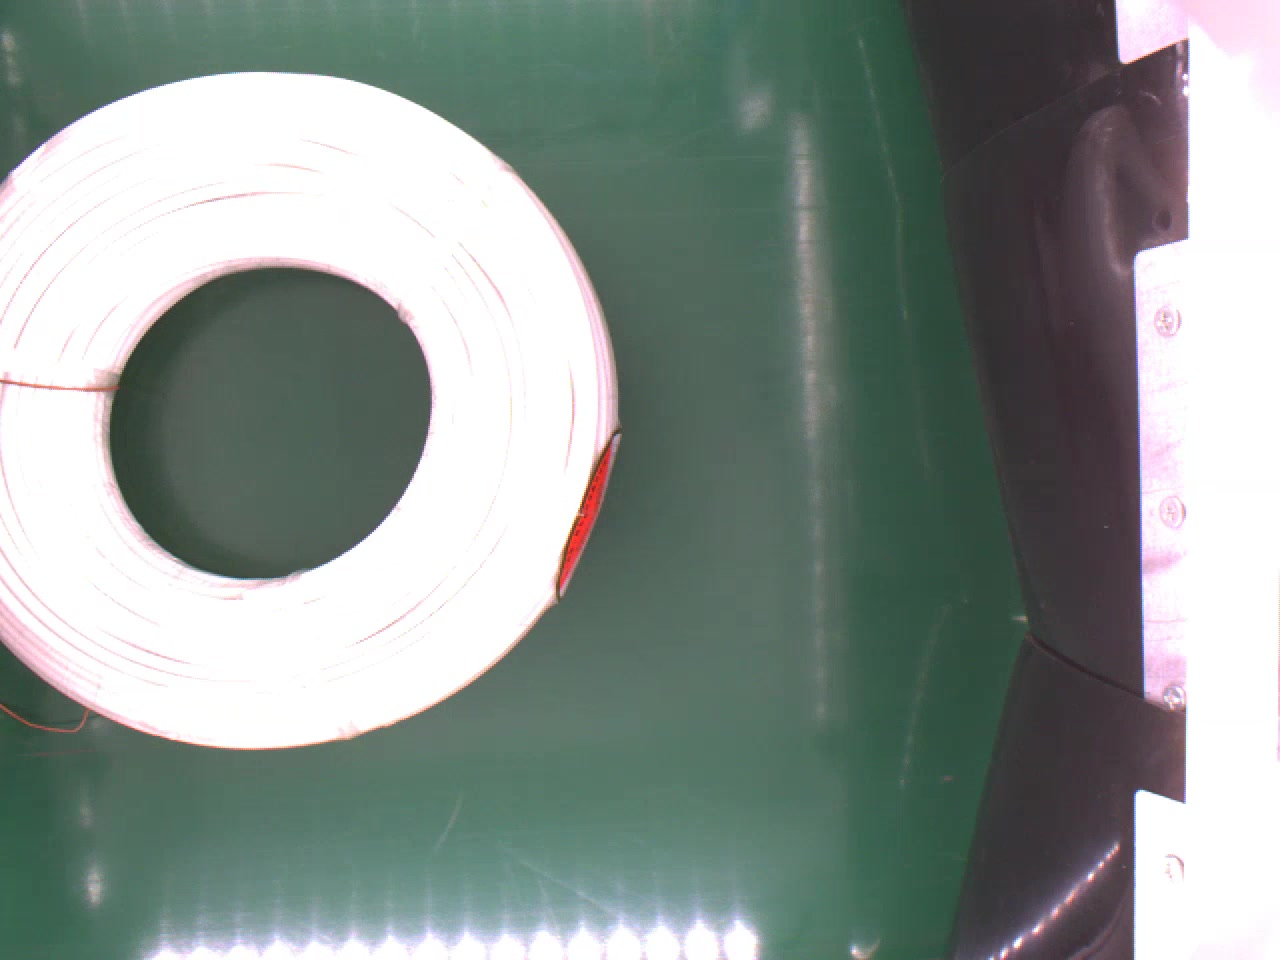white: (0, 68, 620, 740)
